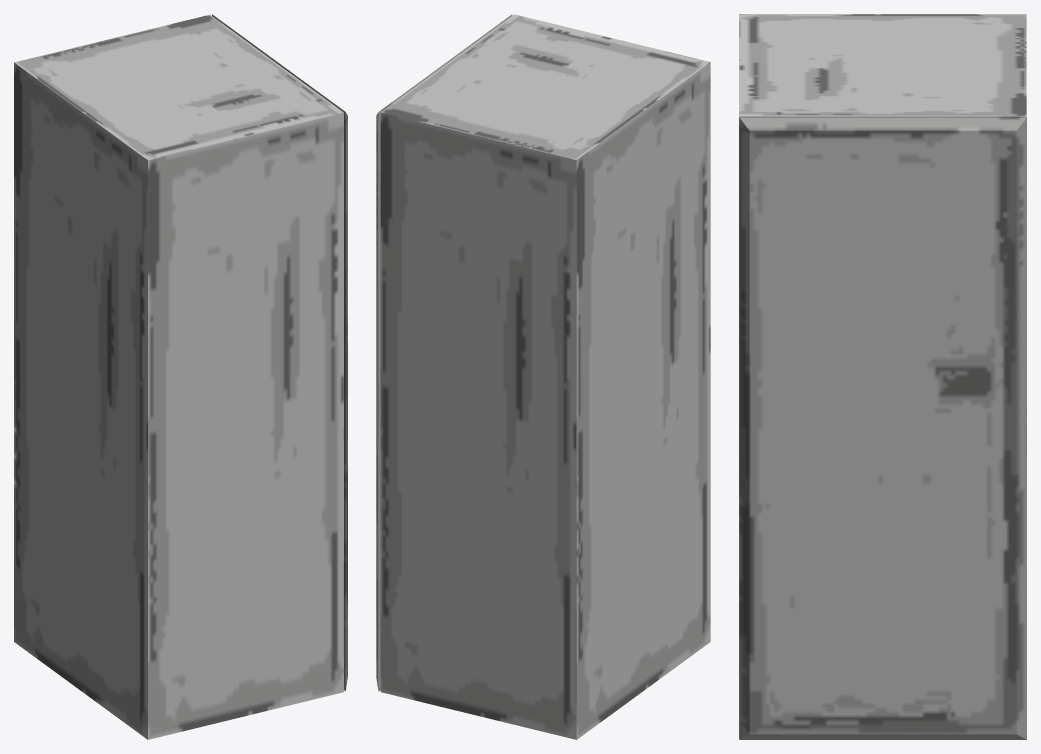
The model's file is fridge.glb.
The picture shows the model from 3 angles, left to right: view 1: azimuth 30°, elevation 25°; view 2: azimuth 150°, elevation 25°; view 3: azimuth 270°, elevation 25°; orthographic projection. The views are drawn at different scales.
Visible parts, largest first — view 1: Fridge; view 2: Fridge; view 3: Fridge.
Boxes of the visible parts, x1=… form: Fridge: x1=14, y1=14, x2=347, y2=739; Fridge: x1=376, y1=14, x2=710, y2=739; Fridge: x1=739, y1=14, x2=1026, y2=739.
Bounding box in the file's own units: 0.592 × 1.6 × 0.671.
1 material, 1 textured.
